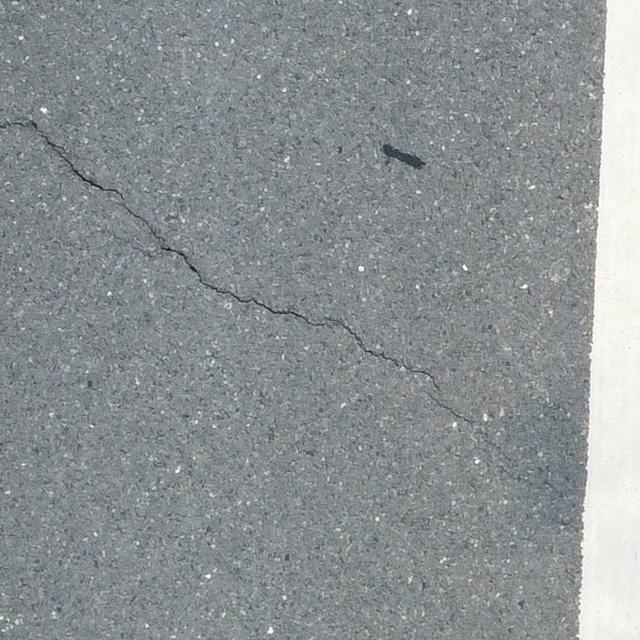TransverseCrack: (1, 116, 474, 425)
